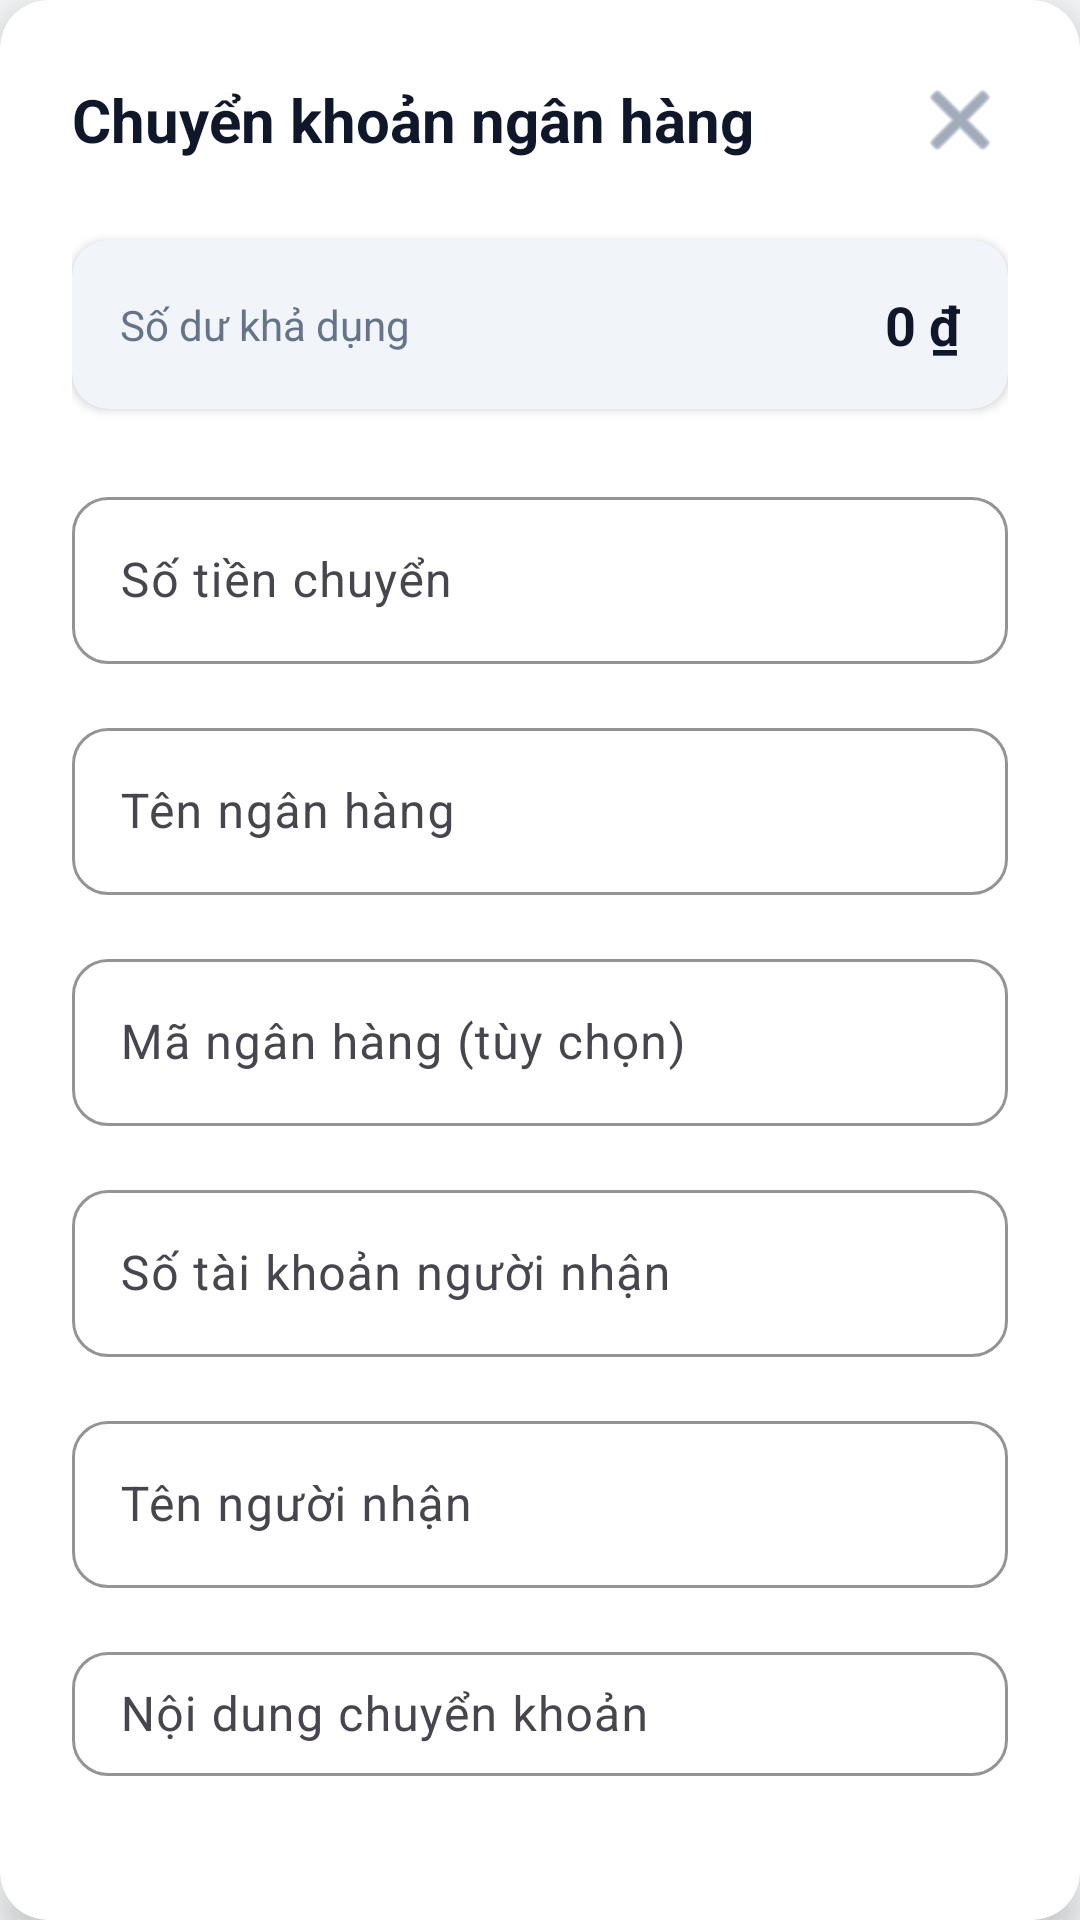

Icons on this 1080*1920 Android screen, each with its box as (x1, y1, x2, y2):
Đóng: (930, 90, 990, 150)
